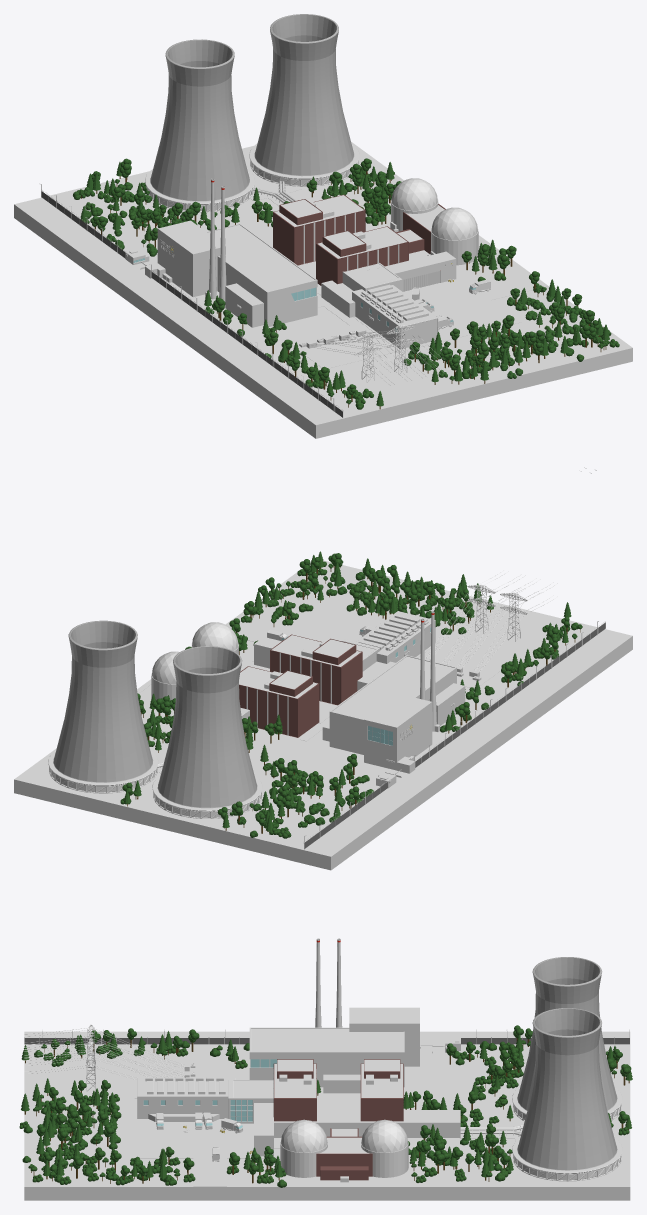
The model's file is PowerPlant.fbx.
3 views of the same model, one above another, from view 1: azimuth 30°, elevation 25°; view 2: azimuth 150°, elevation 25°; view 3: azimuth 270°, elevation 25° (orthographic).
Parts seen in each view (by area): view 1: Cube, Cylinder.021, Cylinder.039, qg, Cube.055, turbo-alternateur, piscine et maintenance réacteur B.001, piscine et maintenance réacteur B, Réacteur B, Réacteur B.001, Cube.049, Cube.008 (+5 smaller); view 2: Cube, Cylinder.021, Cylinder.039, qg, piscine et maintenance réacteur B.001, Cube.055, piscine et maintenance réacteur B, turbo-alternateur, Cube.049, BezierCurve.001, Réacteur B.001, Réacteur B (+3 smaller); view 3: Cube, Cylinder.021, qg, Cube.055, turbo-alternateur, Cylinder.039, piscine et maintenance réacteur B.001, piscine et maintenance réacteur B, Cube.040, Cube.041, Réacteur B.001, Réacteur B (+7 smaller).
Boxes of the visible parts, x1,y1,x2,y2 form: Cube: (14,142,632,438); Cylinder.021: (249,14,359,185); Cylinder.039: (145,39,255,210); qg: (157,220,317,327); Cube.055: (250,182,548,368); turbo-alternateur: (321,263,438,349); piscine et maintenance réacteur B.001: (273,194,365,265); piscine et maintenance réacteur B: (316,226,408,285); Réacteur B: (427,207,478,265); Réacteur B.001: (390,178,438,232); Cube.049: (151,271,343,417); Cube.008: (385,251,456,291); Cube: (14,560,632,870); Cylinder.021: (48,620,158,792); Cylinder.039: (152,646,262,817); qg: (322,655,465,770); piscine et maintenance réacteur B.001: (239,666,319,737); Cube.055: (137,612,512,773); piscine et maintenance réacteur B: (270,634,362,705); turbo-alternateur: (340,611,435,690); Cube.049: (415,621,605,767); BezierCurve.001: (426,571,557,671); Réacteur B.001: (151,651,179,709); Réacteur B: (191,622,238,654); Cube: (24,1031,630,1200); Cylinder.021: (512,1008,622,1180); qg: (249,1007,419,1093); Cube.055: (132,1062,524,1187); turbo-alternateur: (137,1077,273,1123); Cylinder.039: (512,957,622,1119); piscine et maintenance réacteur B.001: (360,1059,403,1121); piscine et maintenance réacteur B: (273,1059,316,1121); Cube.040: (274,1110,460,1137); Cube.041: (316,1128,372,1182); Réacteur B.001: (361,1119,408,1177); Réacteur B: (280,1119,327,1177).
Size of the model in its own units: 4889 by 2420 by 8170.
